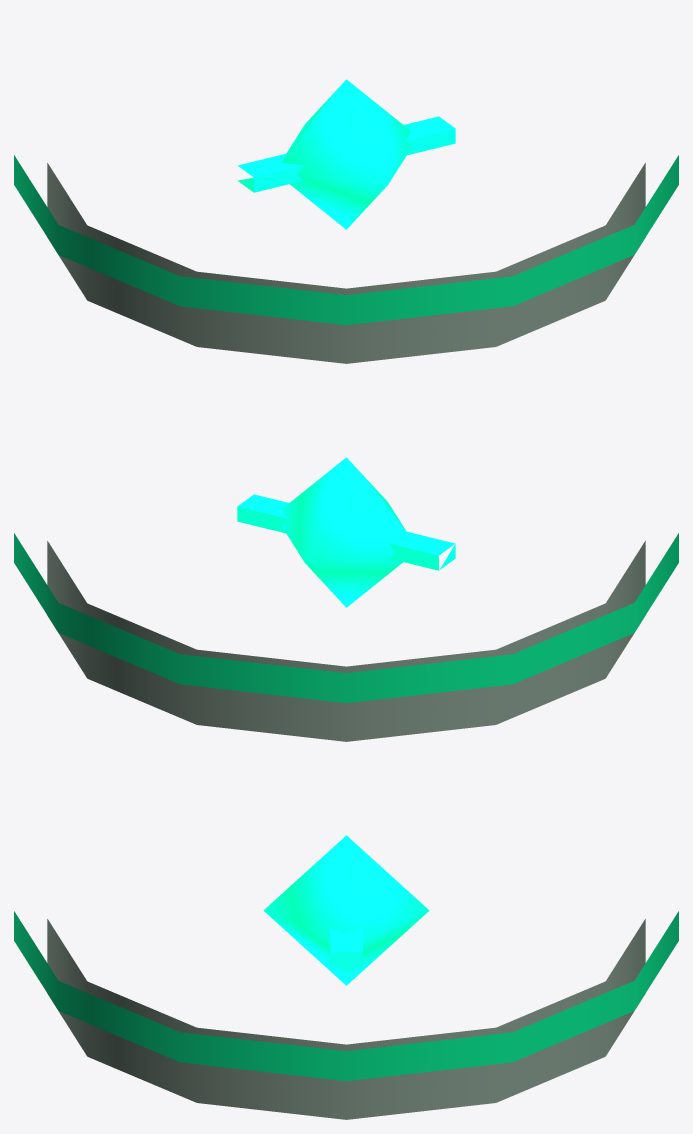
Rendered from brujulas_magneticas.glb.
The picture shows the model from 3 angles, top to bottom: view 1: azimuth 30°, elevation 25°; view 2: azimuth 150°, elevation 25°; view 3: azimuth 270°, elevation 25°; orthographic projection.
Visible parts, largest first — view 1: Base, Accent, Glow; view 2: Base, Accent, Glow; view 3: Base, Accent, Glow.
Boxes of the visible parts, <box> form: Base: <box>47,163,645,363</box>; Accent: <box>14,155,678,325</box>; Glow: <box>237,79,455,229</box>; Base: <box>47,541,645,741</box>; Accent: <box>14,533,678,703</box>; Glow: <box>237,457,455,607</box>; Base: <box>47,919,645,1119</box>; Accent: <box>14,911,678,1081</box>; Glow: <box>263,835,429,985</box>.
Size of the model in its own units: 0.4 by 0.105 by 0.4.
